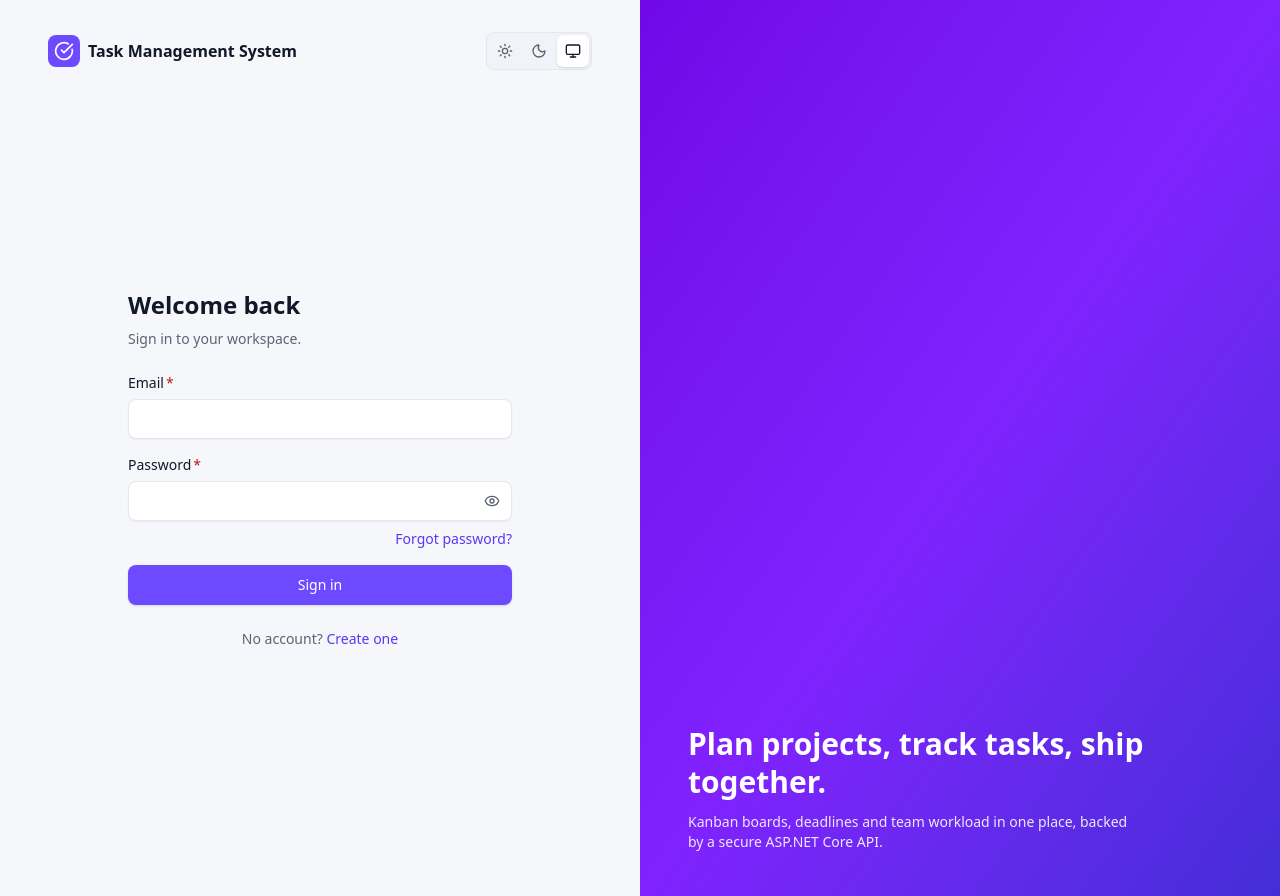
While signed in › stores the refresh token on sign-in so a reload can restore the session
Type "jane@example.com" into the field labelled "Email".
click(320, 419); type("jane@example.com")  # box [128, 399, 512, 439]
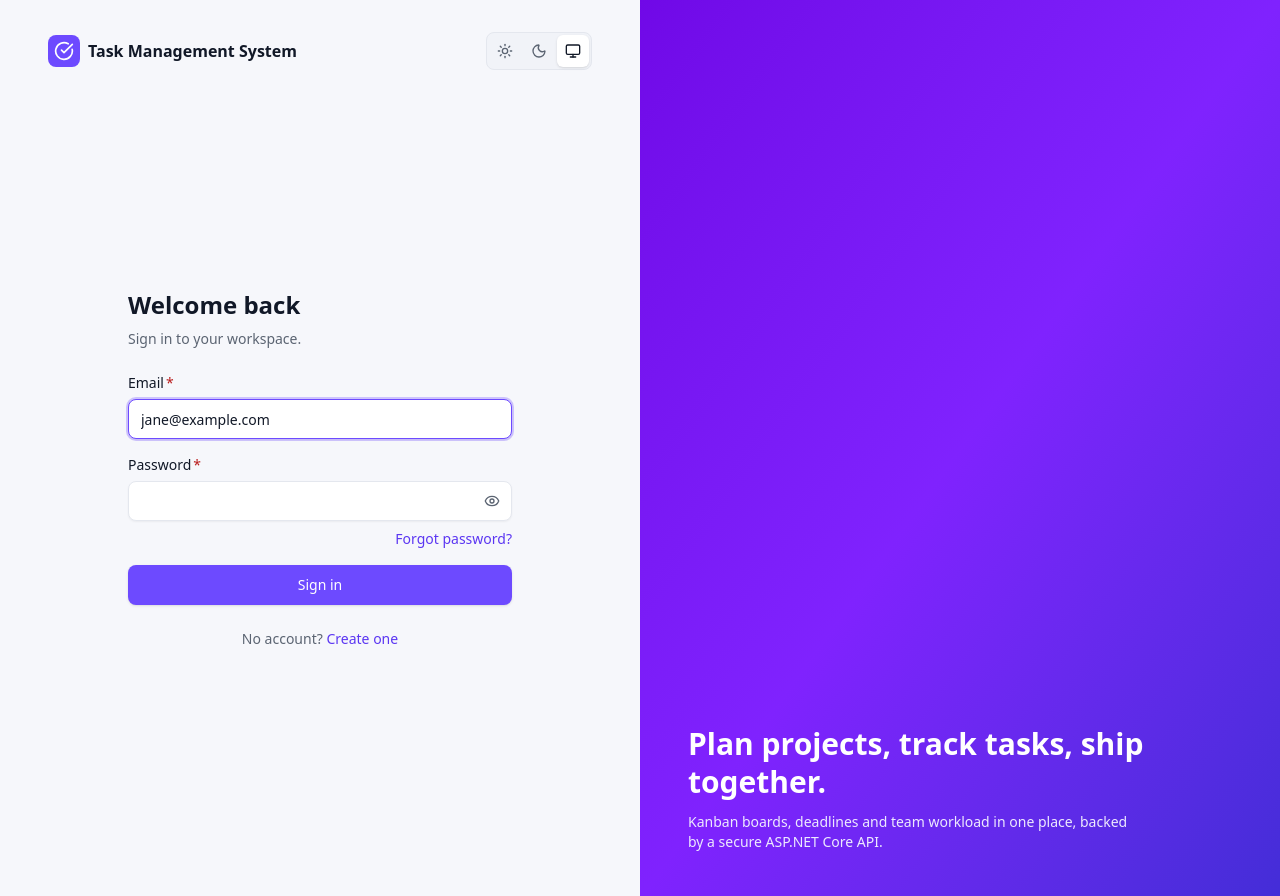
Type "Str0ng!Pass" into the password field labelled "Password".
click(320, 501); type("Str0ng!Pass")  # box [128, 481, 512, 521]
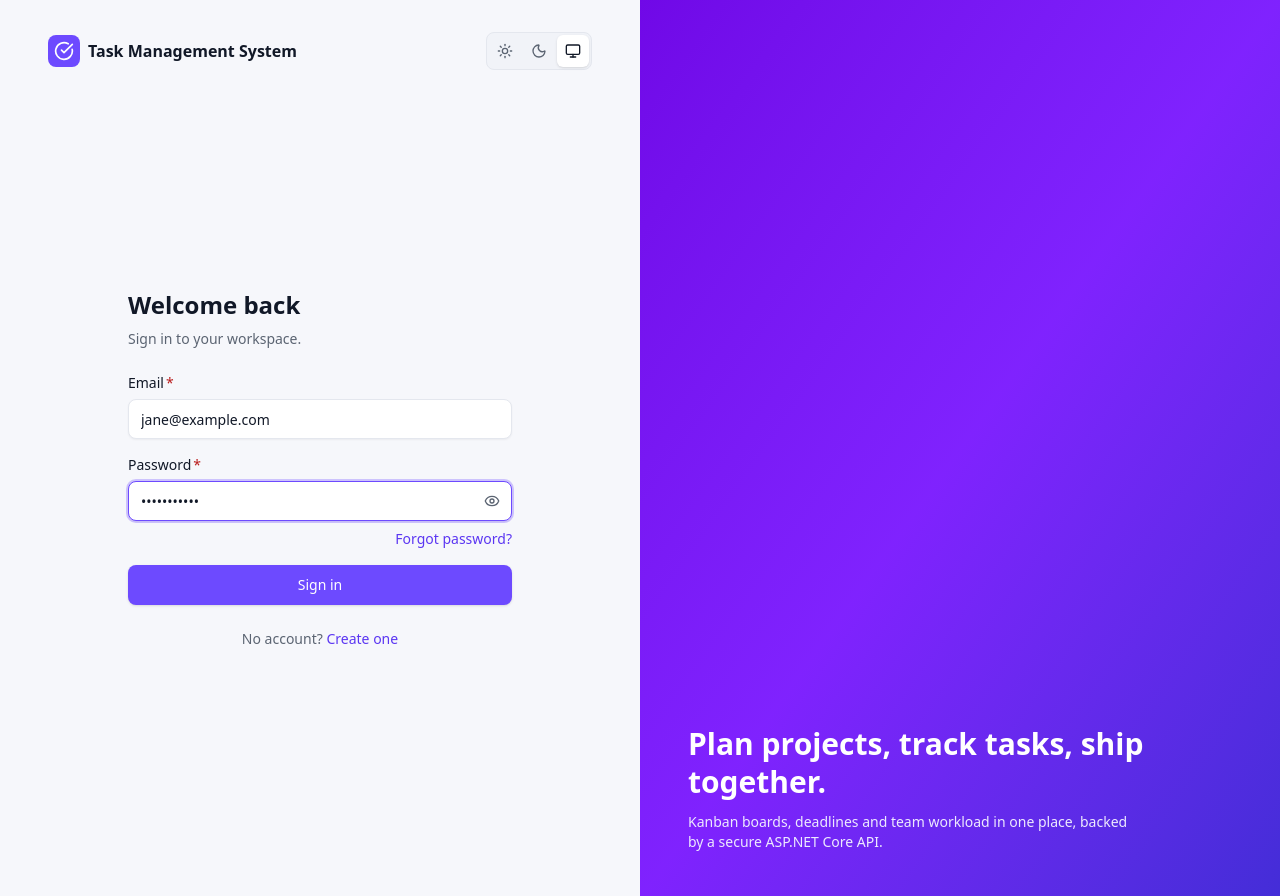
Click the button "Sign in".
click(320, 585)  # box [128, 565, 512, 605]
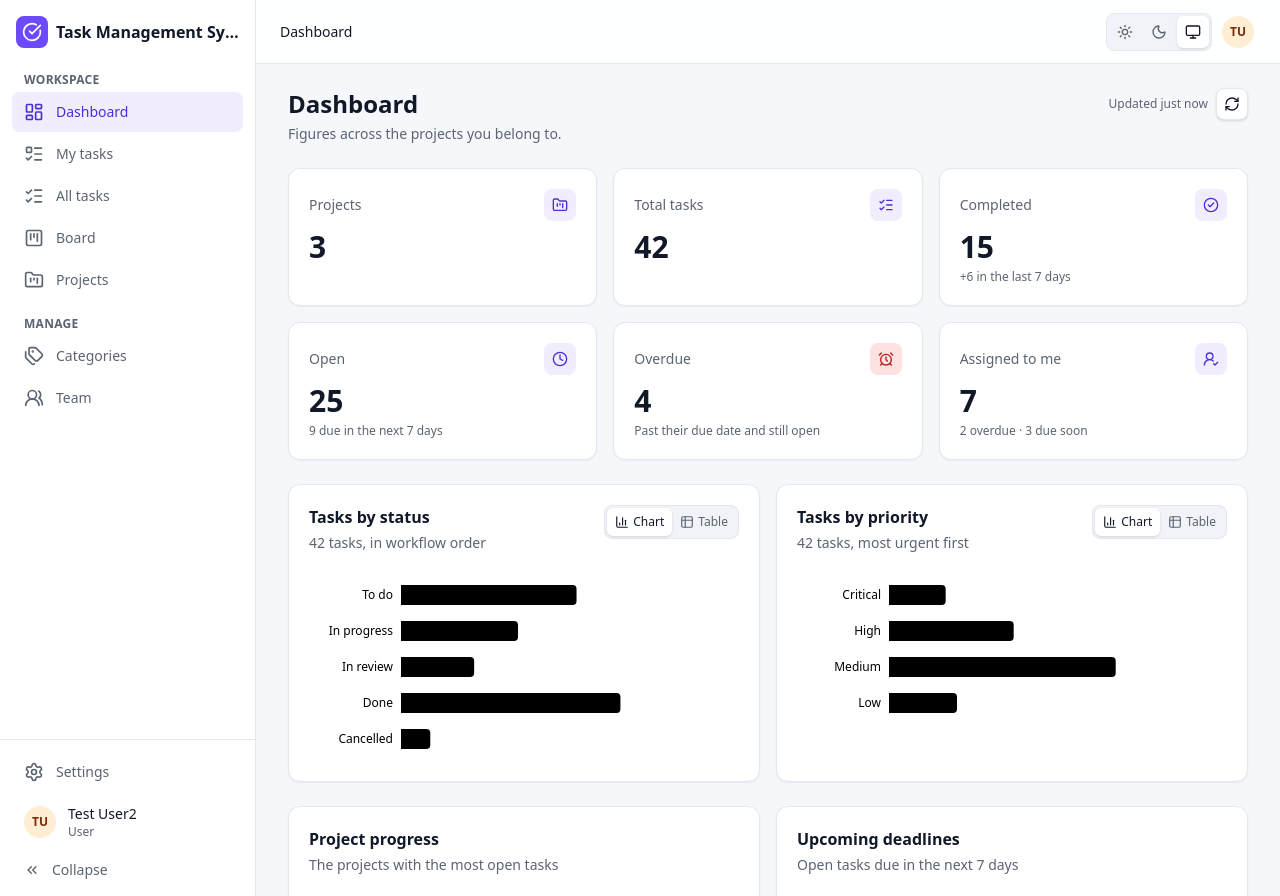
expect the heading "Dashboard" is shown: met, box [288, 87, 418, 120]
